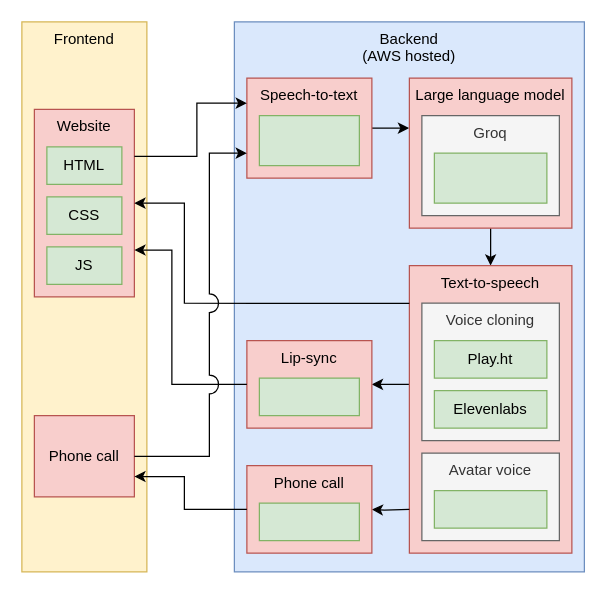
Some shapes in this 606 by 604 pixel diagram are drawn without their labels. Here are the shapes that lost their labels. From the top down, the centre of each, then its label:
At point 308,140: "OpenAI whisper".
At point 490,177: "llama-3.3-70b-versatile".
At point 308,396: "HeyGen".
At point 308,521: "Twilio".
At point 490,508: "AWS Polly".
